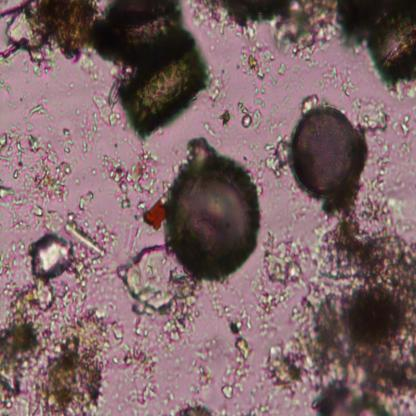Background material: (301, 198, 416, 416), (114, 243, 201, 348), (195, 3, 368, 51), (0, 276, 56, 412), (37, 309, 108, 414), (253, 219, 322, 318), (0, 126, 73, 215), (0, 0, 94, 65), (363, 5, 416, 79), (200, 284, 260, 344), (102, 150, 161, 203), (267, 326, 311, 394), (58, 211, 108, 263), (218, 333, 253, 395), (122, 347, 157, 408), (29, 235, 75, 278), (89, 80, 124, 129), (367, 137, 395, 194), (198, 60, 234, 104), (239, 50, 285, 83), (387, 139, 416, 190), (72, 110, 106, 153), (354, 96, 390, 132), (187, 348, 215, 394), (265, 134, 293, 178), (28, 82, 57, 123), (323, 66, 358, 96), (384, 76, 416, 107), (0, 73, 20, 114), (170, 397, 213, 415), (236, 102, 263, 130), (201, 119, 224, 147), (291, 52, 320, 74), (108, 316, 124, 352), (78, 190, 96, 218), (250, 401, 280, 415), (218, 109, 234, 128), (402, 115, 412, 137)
Diatom: (166, 150, 260, 283), (118, 40, 206, 139), (290, 107, 357, 195), (91, 0, 191, 46)
Fragment: (144, 197, 166, 233)
